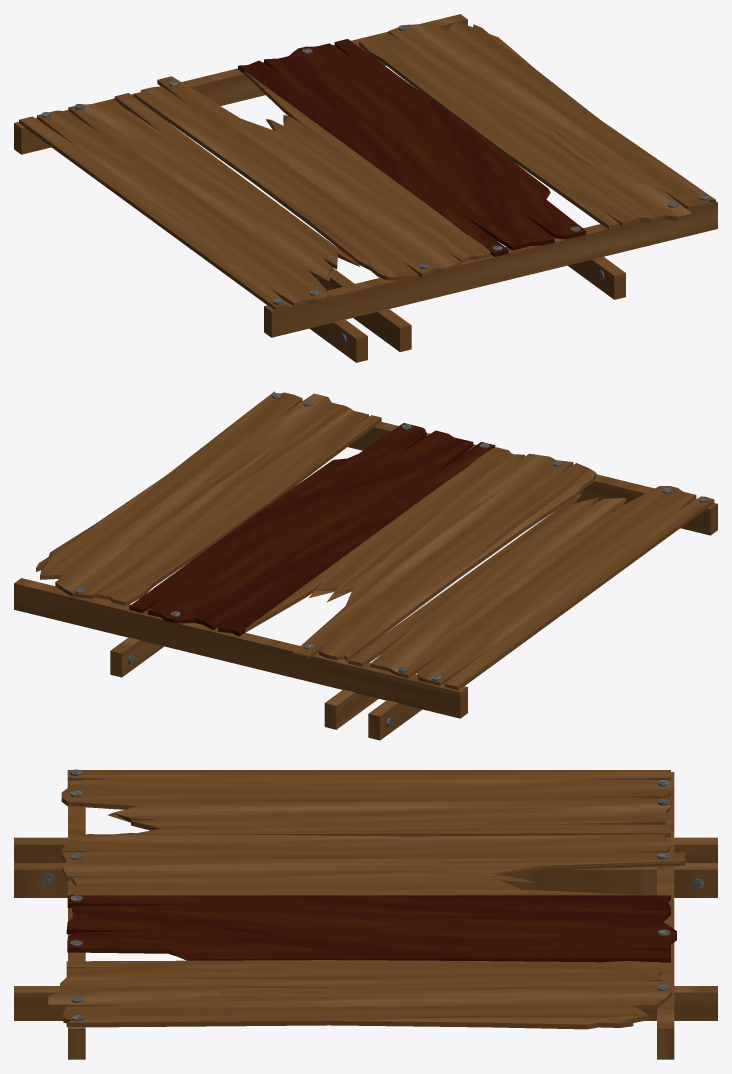
The model's file is Wooden dock 2 no pillar.fbx.
3 views of the same model, one above another, from view 1: azimuth 30°, elevation 25°; view 2: azimuth 150°, elevation 25°; view 3: azimuth 270°, elevation 25° (orthographic). The views are drawn at different scales.
Visible parts, largest first — view 1: Dock_2; view 2: Dock_2; view 3: Dock_2.
Part boxes in pixels (box(x1,y1,x2,y2)): Dock_2: box(14, 14, 717, 362); Dock_2: box(14, 391, 717, 740); Dock_2: box(14, 769, 717, 1059).
Bounding box in the file's own units: 529 × 62.8 × 613.
